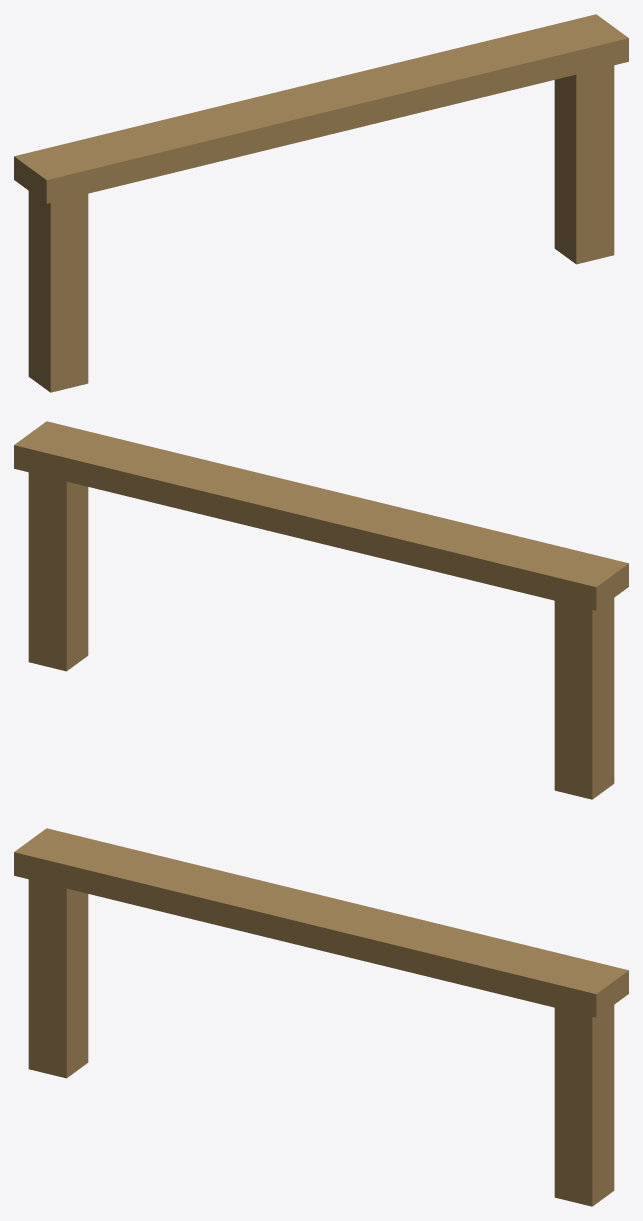
The model's file is naturePack_049.fbx.
The picture shows the model from 3 angles, top to bottom: view 1: azimuth 30°, elevation 25°; view 2: azimuth 150°, elevation 25°; view 3: azimuth 330°, elevation 25°; orthographic projection.
Parts seen in each view (by area): view 1: Mesh1_Group1 Model; view 2: Mesh1_Group1 Model; view 3: Mesh1_Group1 Model.
Boxes of the visible parts, box(x1,y1,x2,y2) form: Mesh1_Group1 Model: box(14, 14, 628, 392); Mesh1_Group1 Model: box(14, 421, 628, 799); Mesh1_Group1 Model: box(14, 828, 628, 1206).
Size of the model in its own units: 3.1 by 1.11 by 0.3013.
